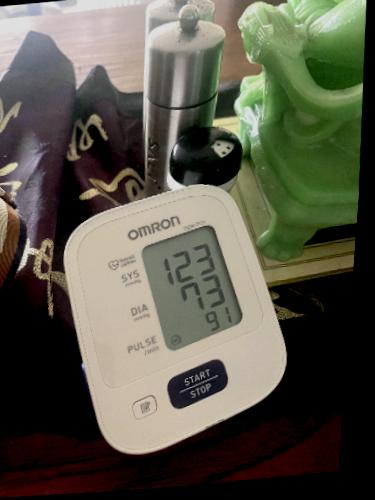bpm: (129, 220, 250, 356)
